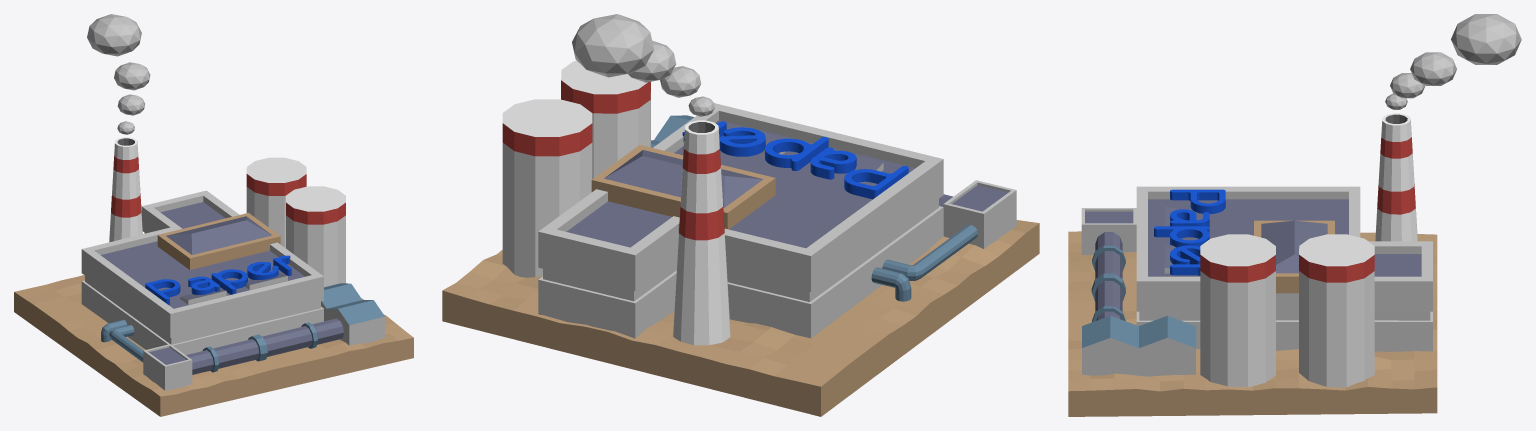
The model's file is Factory_Paper.fbx.
3 renders of one model, left to right at view 1: azimuth 30°, elevation 25°; view 2: azimuth 150°, elevation 25°; view 3: azimuth 270°, elevation 25°, orthographic. The views are drawn at different scales.
Parts seen in each view (by area): view 1: Factory, Text; view 2: Factory, Text; view 3: Factory, Text.
Boxes of the visible parts, box(x1,y1,x2,y2) form: Factory: box(14, 14, 413, 416); Text: box(145, 255, 291, 305); Factory: box(442, 14, 1039, 416); Text: box(682, 121, 908, 199); Factory: box(1068, 14, 1521, 416); Text: box(1154, 189, 1225, 275).
Bounding box in the file's own units: 660 × 627 × 811.
